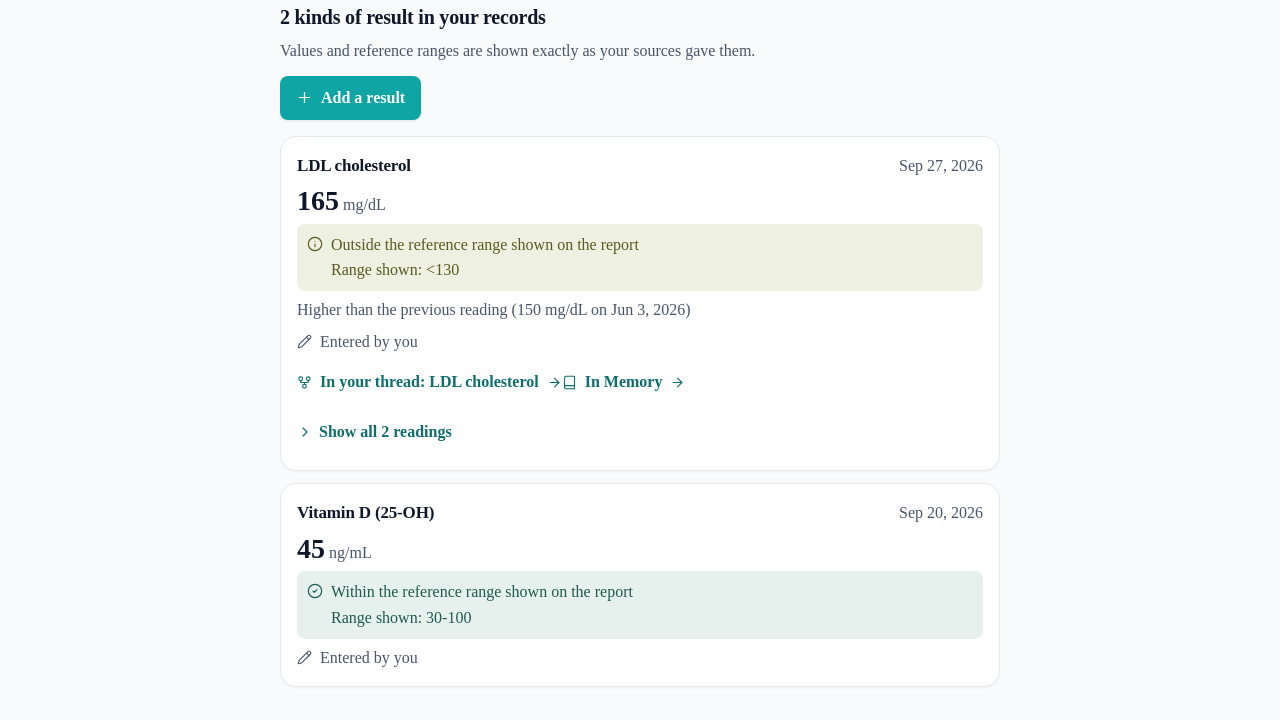
ResultsLive › opens the existing Capture modal on the lab type
Step 1. Click the button "Add a result" → (351, 98), box [280,76,421,120]
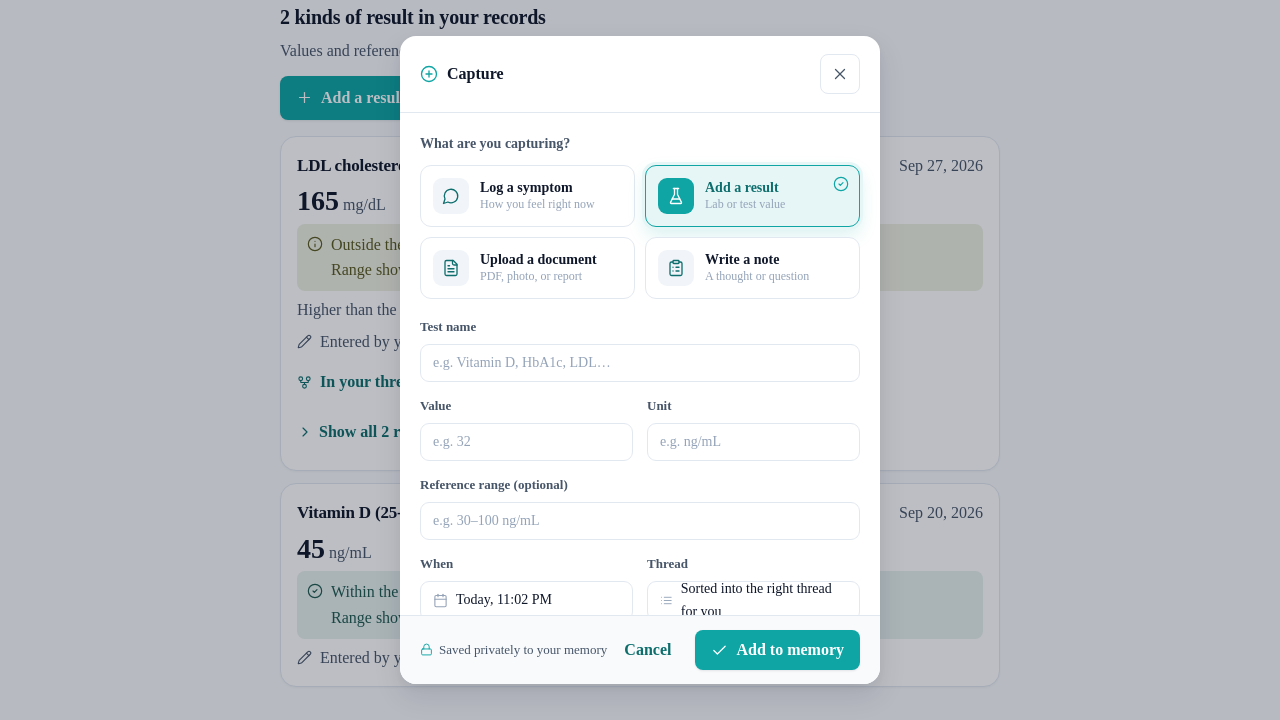
Now the field labelled "Test name" is shown, box [420,344,860,382]
